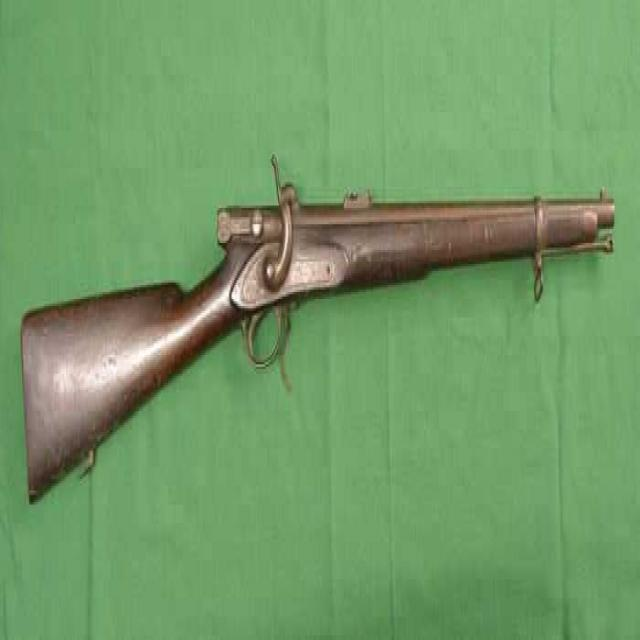weapon: (11, 147, 627, 530)
